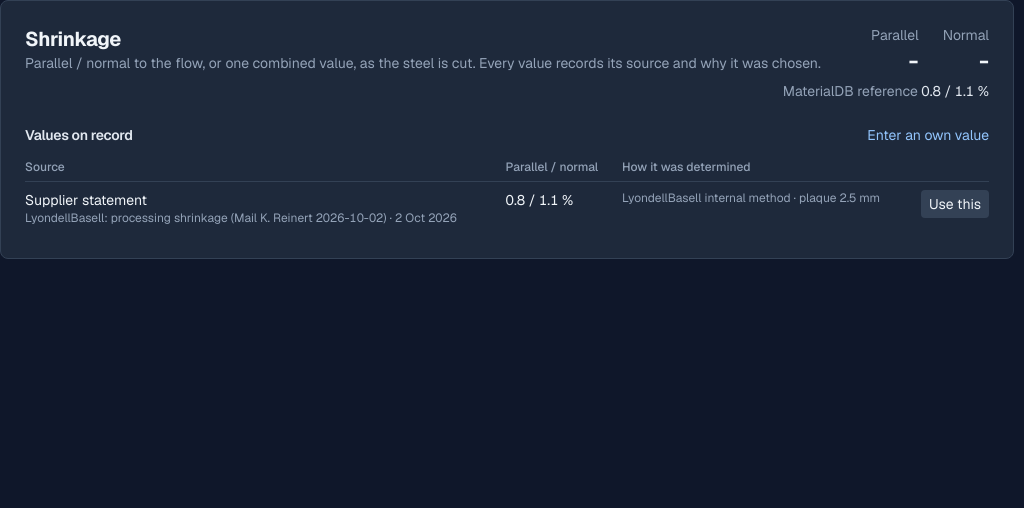
it: ToolShrinkCard › records one combined value for both directions
The image size is (1024, 508).
Later steps or results of the test are not shown.
Click the button with test id "shrink-own": (928, 135) [867,125,989,145]
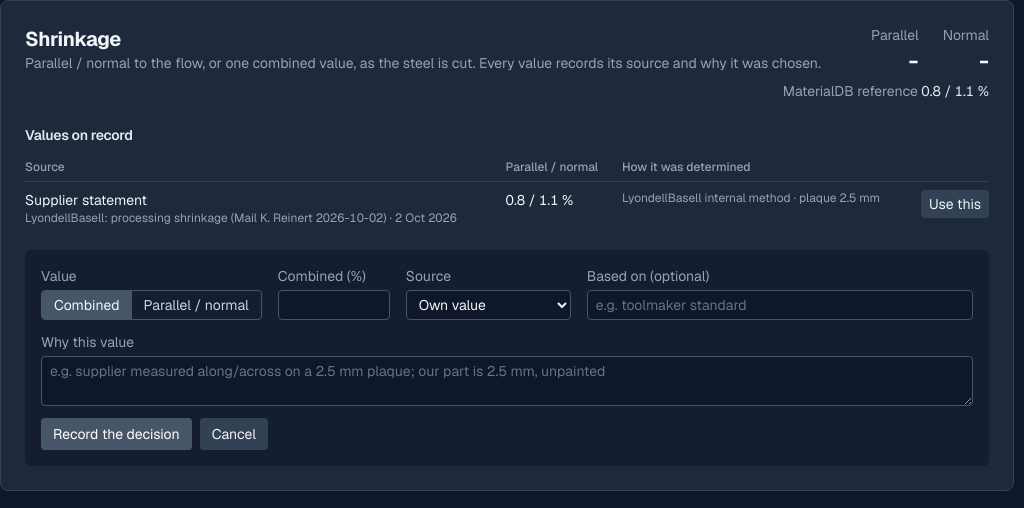
Check: the radio button with test id "shrink-mode-combined" is checked, box [42,291,132,319]
